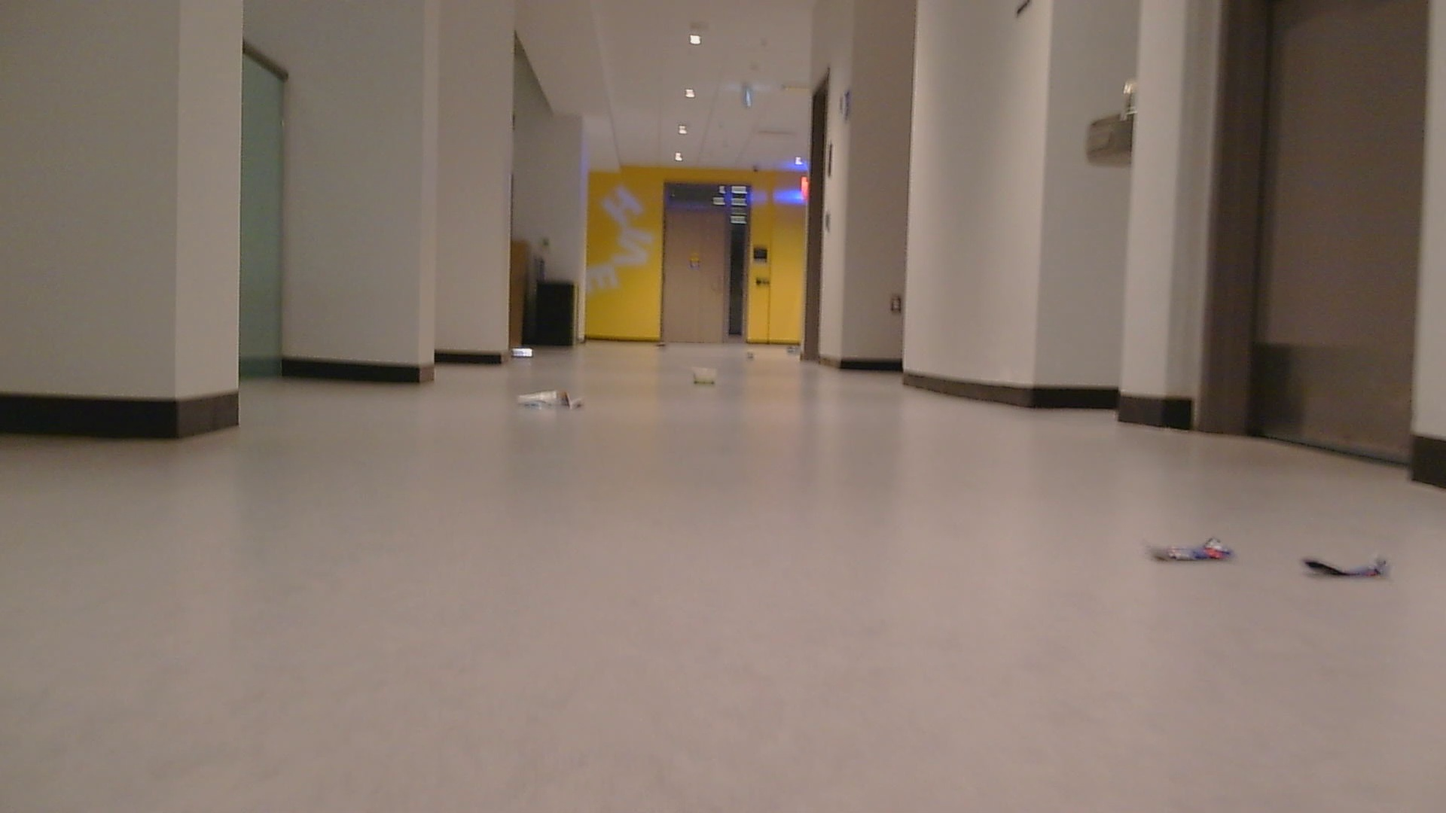carton: (1134, 533, 1256, 571), (1301, 547, 1410, 582), (512, 382, 594, 420), (691, 361, 730, 391), (506, 349, 534, 370), (652, 328, 674, 352), (746, 348, 765, 372), (786, 340, 809, 356)
